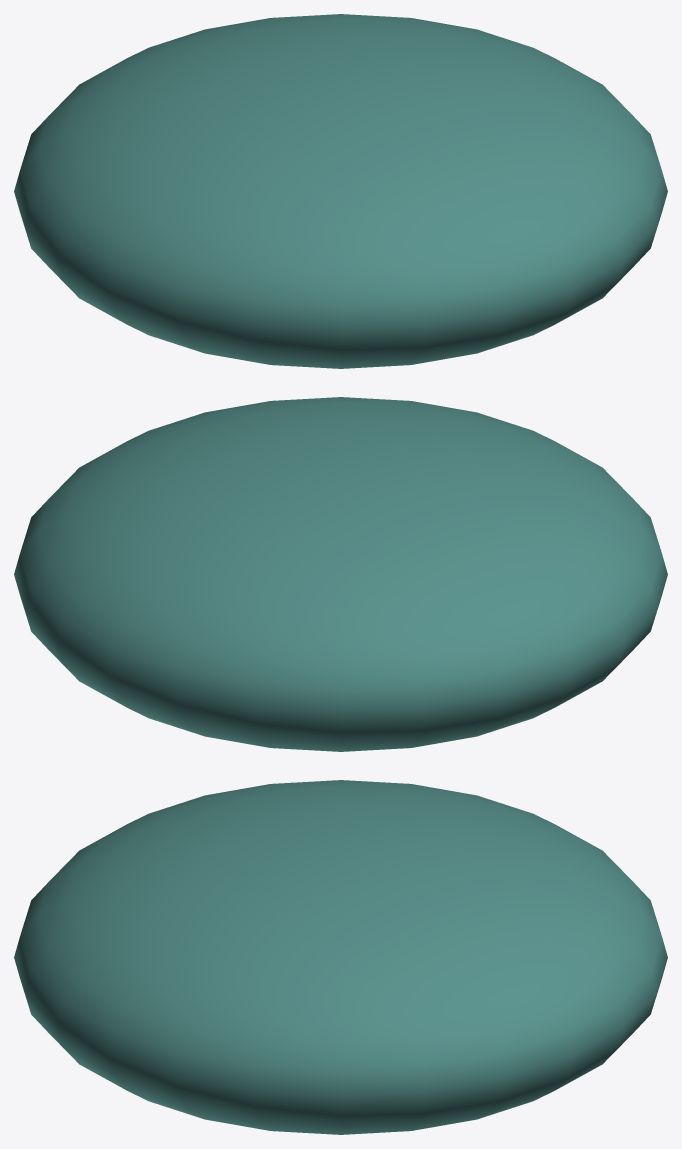
The model's file is cushion.glb.
3 renders of one model, top to bottom at view 1: azimuth 30°, elevation 25°; view 2: azimuth 150°, elevation 25°; view 3: azimuth 270°, elevation 25°, orthographic.
Visible parts, largest first — view 1: cushion; view 2: cushion; view 3: cushion.
Boxes of the visible parts, box(x1,y1,x2,y2) form: cushion: box(14, 14, 667, 368); cushion: box(14, 397, 667, 751); cushion: box(14, 780, 667, 1134).
Bounding box in the file's own units: 0.7 × 0.266 × 0.7.
